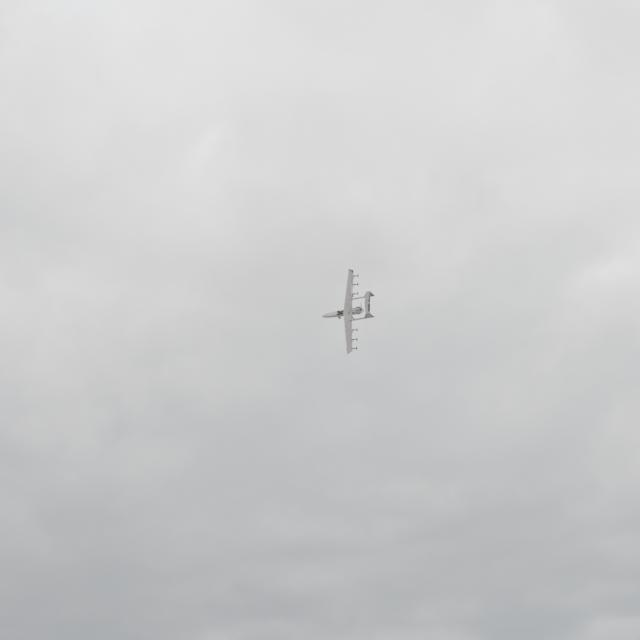Airaplan: (322, 269, 375, 354)
